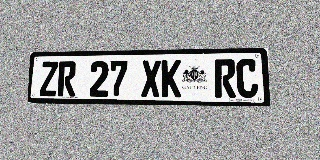2: (90, 61, 109, 97)
7: (109, 60, 128, 97)
C: (236, 59, 258, 98)
K: (161, 60, 181, 97)
R: (214, 59, 236, 98), (57, 61, 76, 96)
X: (141, 60, 161, 97)
Z: (40, 61, 58, 96)
